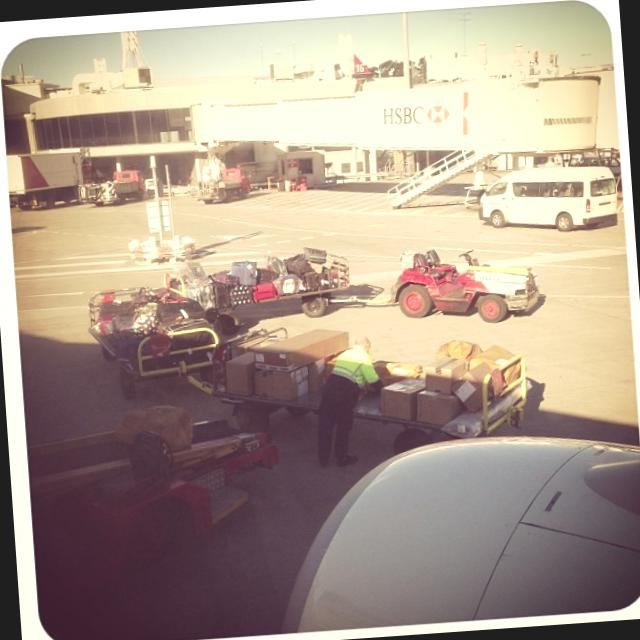Vehicle: (162, 246, 356, 338), (382, 242, 548, 330), (476, 164, 618, 237), (4, 149, 82, 208), (187, 161, 253, 206), (76, 168, 146, 208)
